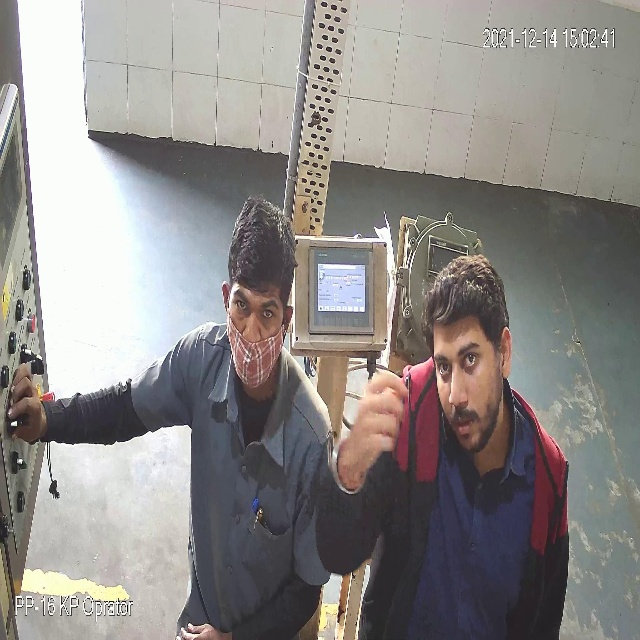Sin_gafas: (432, 335, 490, 377), (228, 286, 282, 324)
Sin_mascara: (438, 378, 499, 453)
